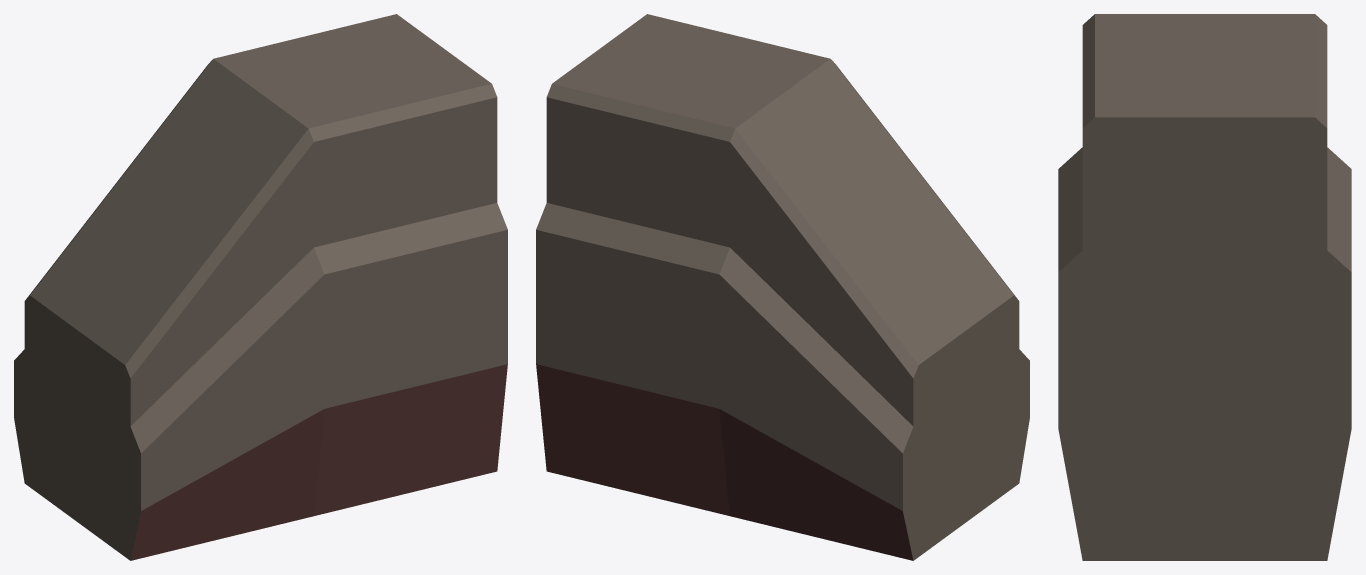
The model's file is steampunk_wall_stone_transition_med.fbx.
3 renders of one model, left to right at view 1: azimuth 30°, elevation 25°; view 2: azimuth 150°, elevation 25°; view 3: azimuth 270°, elevation 25°, orthographic. The views are drawn at different scales.
Visible parts, largest first — view 1: Cube.010; view 2: Cube.010; view 3: Cube.010.
Part boxes in pixels (x1,y1,x2,y2): Cube.010: (14, 14, 507, 560); Cube.010: (536, 14, 1029, 560); Cube.010: (1058, 14, 1351, 560).
Bounding box in the file's own units: 3 × 3 × 1.8.
